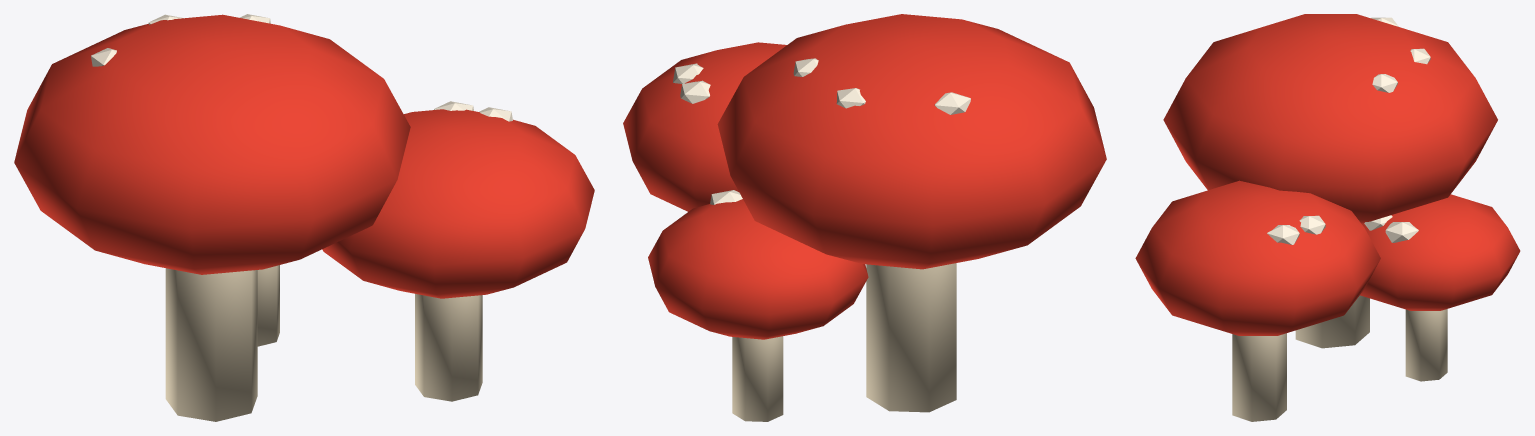
File: hd_mushrooms.gltf
3 views of the same model, side by side, from view 1: azimuth 30°, elevation 25°; view 2: azimuth 150°, elevation 25°; view 3: azimuth 270°, elevation 25° (orthographic). The views are drawn at different scales.
Visible parts, largest first — view 1: cap0, cap1, stem0, stem1, stem2; view 2: cap0, cap2, cap1, stem0, stem2, dot0_2, dot1_0, dot0_0; view 3: cap0, cap1, cap2, stem1, stem2, stem0, dot2_0, dot1_1, dot1_0, dot0_1.
Part boxes in pixels (x1,y1,x2,y2): cap0: (14, 14, 410, 274); cap1: (322, 109, 594, 298); stem0: (165, 268, 257, 421); stem1: (415, 294, 482, 401); stem2: (257, 265, 279, 346); cap0: (717, 14, 1106, 269); cap2: (648, 199, 868, 339); cap1: (623, 42, 786, 211); stem0: (866, 263, 956, 412); stem2: (732, 336, 783, 421); dot0_2: (934, 92, 970, 114); dot1_0: (680, 80, 710, 103); dot0_0: (836, 88, 865, 108); cap0: (1163, 14, 1497, 223); cap1: (1135, 180, 1380, 335); cap2: (1360, 194, 1520, 310); stem1: (1232, 333, 1286, 421); stem2: (1405, 309, 1447, 381); stem0: (1295, 295, 1369, 348); dot2_0: (1385, 222, 1418, 242); dot1_1: (1267, 225, 1299, 244); dot1_0: (1299, 215, 1325, 234); dot0_1: (1372, 74, 1397, 92).
Size of the model in its own units: 0.8245 by 0.585 by 0.69.
